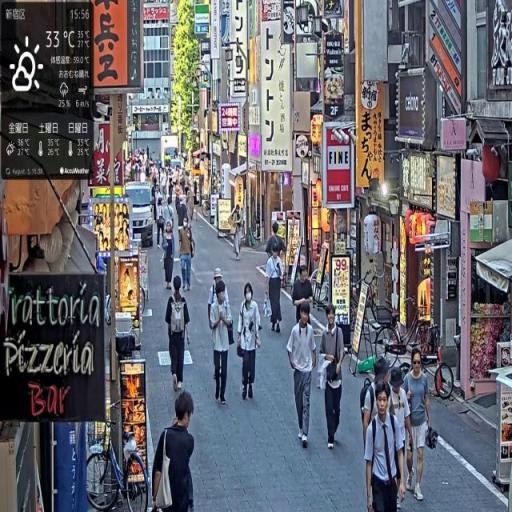person: (151, 390, 197, 512), (363, 382, 404, 512), (400, 351, 435, 503), (287, 302, 319, 451), (319, 304, 348, 455), (208, 276, 236, 411), (388, 367, 413, 510), (165, 275, 193, 393), (237, 284, 264, 404), (266, 238, 286, 335), (292, 264, 315, 330), (180, 219, 197, 293), (163, 223, 176, 292), (231, 201, 245, 263)
